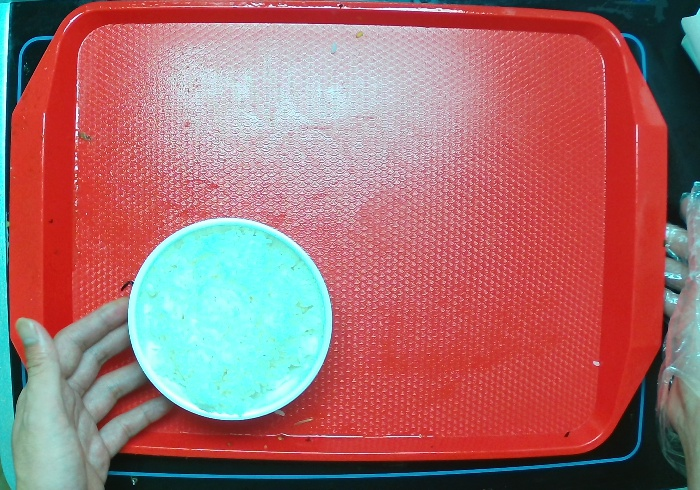YKMZ-Fan_Wan: (123, 211, 335, 428)
